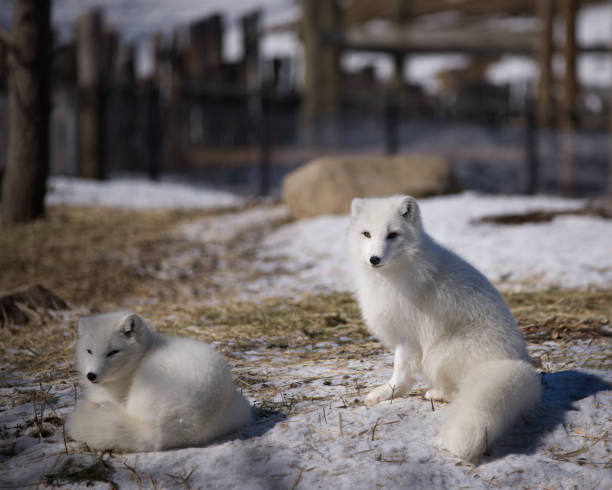arcticfox: (354, 202, 420, 287), (81, 318, 140, 389)
